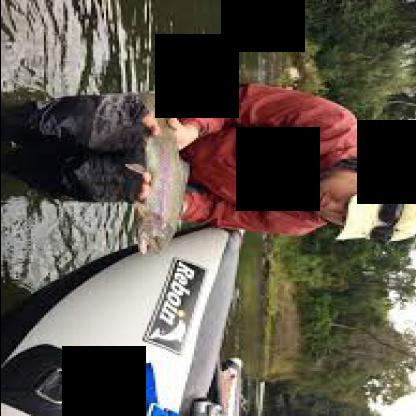fish: (125, 88, 193, 256)
